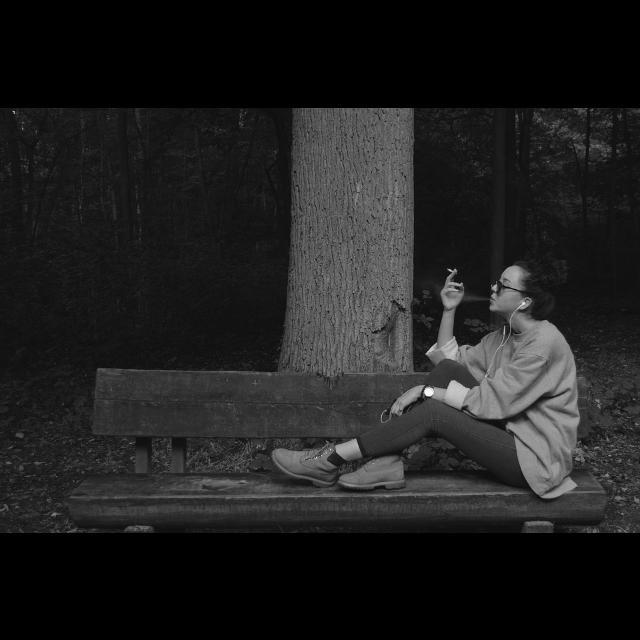rokok: (446, 266, 454, 274)
